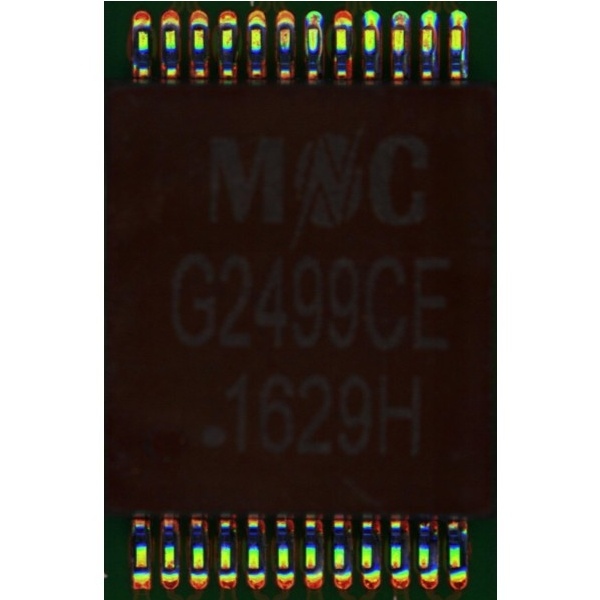Bad_podu: (452, 18, 461, 36), (365, 19, 373, 35), (395, 19, 402, 37), (422, 21, 432, 33), (308, 19, 317, 30)
Bad_qiaojiao: (457, 29, 465, 68), (431, 29, 437, 69), (316, 28, 322, 68)
